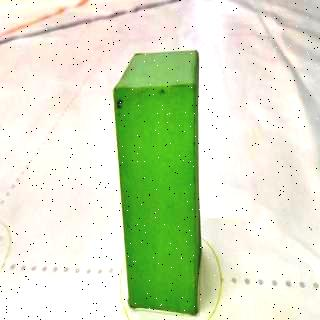greenbox: (114, 49, 204, 316)
